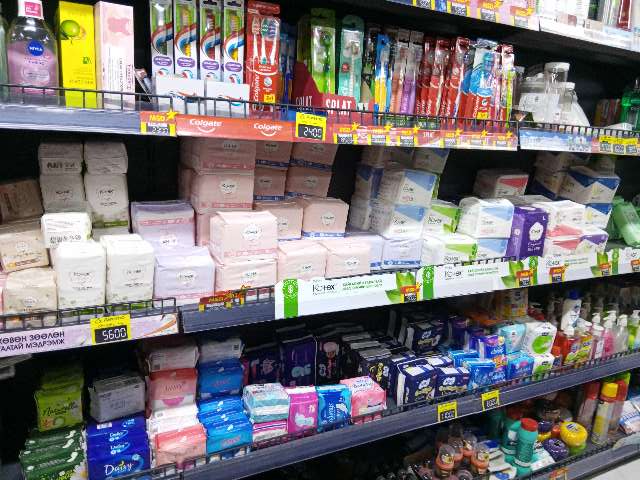always: (482, 338, 509, 390), (511, 354, 533, 382)
aquafresh: (149, 2, 177, 82), (176, 2, 199, 81), (223, 3, 244, 82)
colgate: (429, 36, 464, 118), (474, 41, 496, 124)
daisy: (88, 448, 144, 474)
khatad: (202, 414, 254, 454), (198, 362, 244, 400), (149, 431, 202, 463), (149, 373, 190, 407)
kotex: (104, 244, 153, 311), (155, 249, 215, 300), (213, 216, 275, 260), (132, 202, 196, 240), (62, 255, 104, 309), (86, 175, 127, 230), (379, 165, 433, 206), (196, 172, 253, 209), (4, 278, 57, 316), (0, 228, 48, 267), (326, 237, 371, 278), (278, 244, 325, 282), (216, 262, 275, 291), (465, 198, 510, 236), (195, 138, 253, 167), (376, 237, 425, 271), (302, 201, 348, 237), (568, 169, 617, 202), (514, 204, 544, 257), (374, 205, 424, 236), (483, 168, 530, 198), (3, 183, 40, 219), (431, 235, 474, 265), (295, 142, 337, 172), (547, 200, 584, 233), (289, 171, 330, 198), (251, 168, 285, 200), (426, 204, 461, 229), (274, 208, 302, 239), (259, 139, 289, 167), (548, 237, 580, 260), (586, 205, 615, 230), (480, 239, 508, 257)
naturella: (34, 390, 81, 429)
sofy body fit: (397, 366, 436, 408), (354, 351, 400, 379), (351, 383, 384, 422), (319, 341, 345, 385), (438, 368, 467, 397), (407, 329, 439, 354)
splat: (310, 6, 340, 98), (342, 8, 365, 107)
